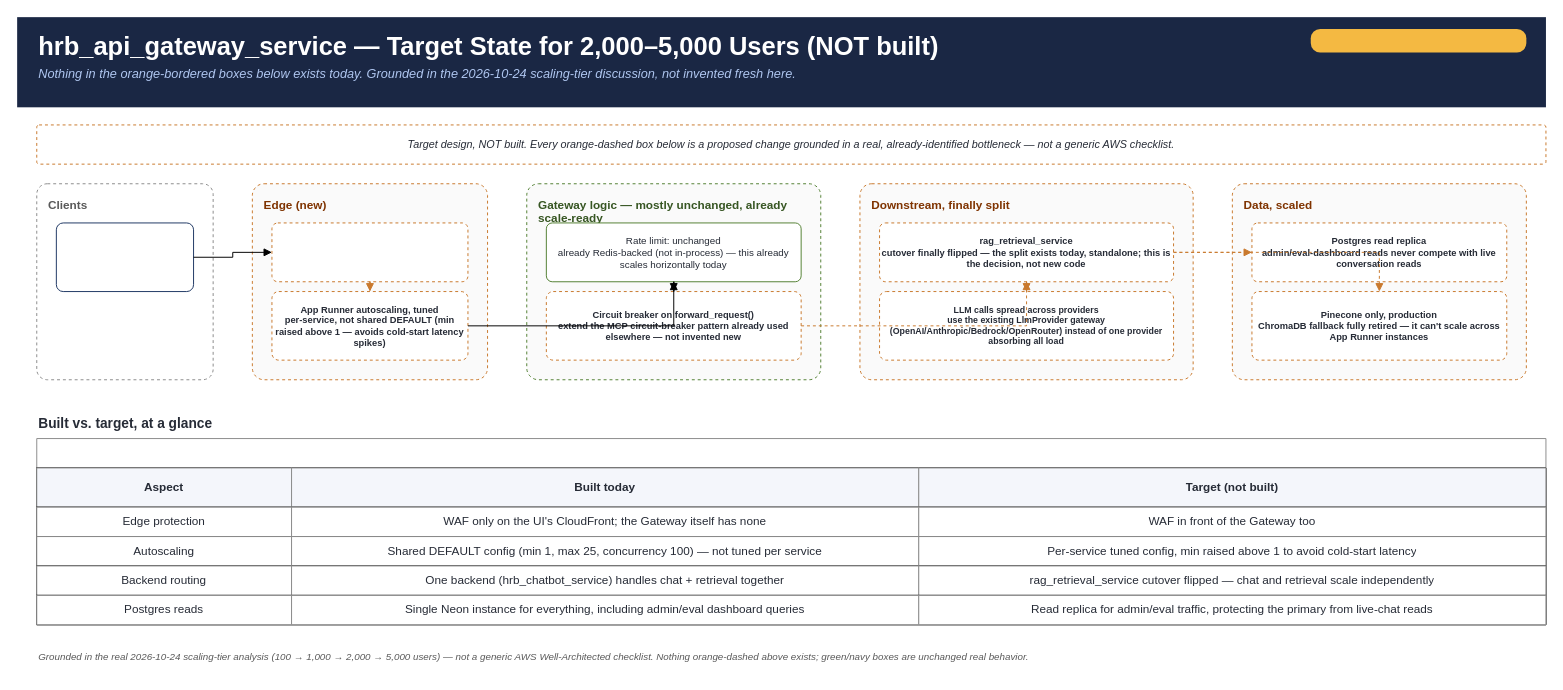
Some shapes in this 1563 by 690 pixel diagram are drawn without their labels. The shapes that lost their labels are listed below. From the top down, each one's centre as x and y in pixels, then its label:
[1418,40]: VIEW · target state, NOT built
[124,257]: Employees · HR Admins up to 5,000, bursty, enrollment-season spikes
[369,252]: WAF covers this gateway too — today only the UI's own CloudFront has one
